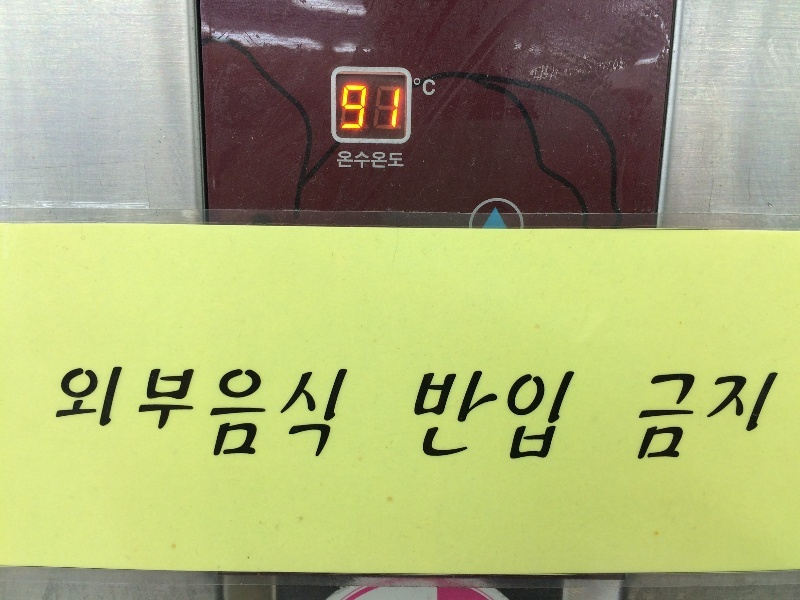text: (657, 370, 672, 471), (673, 370, 688, 471), (689, 370, 704, 471), (705, 370, 720, 471), (721, 370, 736, 471), (737, 370, 752, 471), (753, 370, 768, 471), (65, 367, 80, 467), (81, 367, 96, 467), (97, 367, 112, 467), (113, 367, 128, 467), (129, 367, 144, 467), (145, 367, 160, 467), (161, 367, 176, 467), (177, 367, 192, 467), (193, 367, 208, 467), (209, 367, 224, 467), (225, 367, 240, 467), (241, 367, 256, 467), (257, 367, 272, 467), (273, 367, 288, 467), (289, 367, 304, 467), (305, 367, 320, 467), (321, 367, 336, 467), (433, 368, 448, 463), (449, 368, 464, 463), (465, 368, 480, 463), (481, 368, 496, 463), (497, 368, 512, 463), (513, 368, 528, 463), (529, 368, 544, 463), (545, 368, 560, 463), (561, 368, 576, 463), (337, 367, 351, 467), (644, 370, 656, 471), (769, 370, 781, 471), (421, 368, 432, 463), (385, 85, 401, 130), (353, 85, 368, 130), (369, 85, 384, 130), (577, 368, 582, 463), (60, 367, 64, 467), (344, 85, 352, 130), (417, 78, 432, 97), (337, 151, 352, 169), (353, 151, 368, 169), (369, 151, 384, 169), (385, 151, 400, 169), (401, 151, 405, 169), (413, 78, 416, 97), (433, 78, 436, 97)
